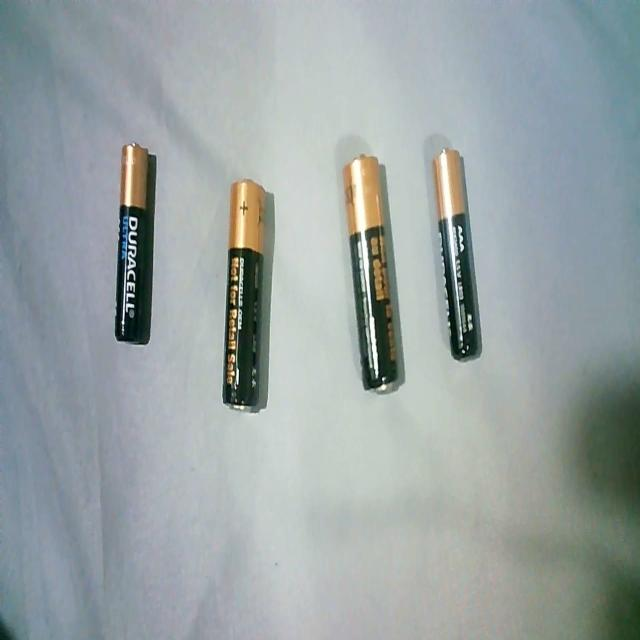AA: (339, 148, 407, 402), (220, 176, 273, 418)
AAA: (429, 144, 486, 370), (112, 136, 159, 354)
